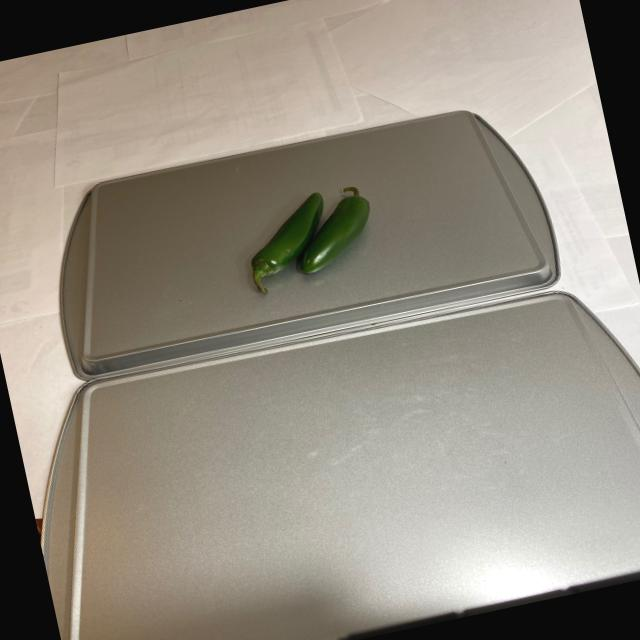chilli: (229, 180, 385, 298)
